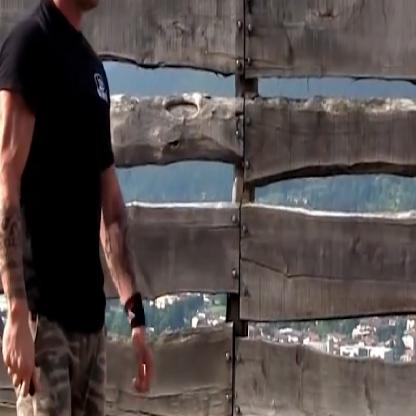knife: (0, 266, 44, 404)
